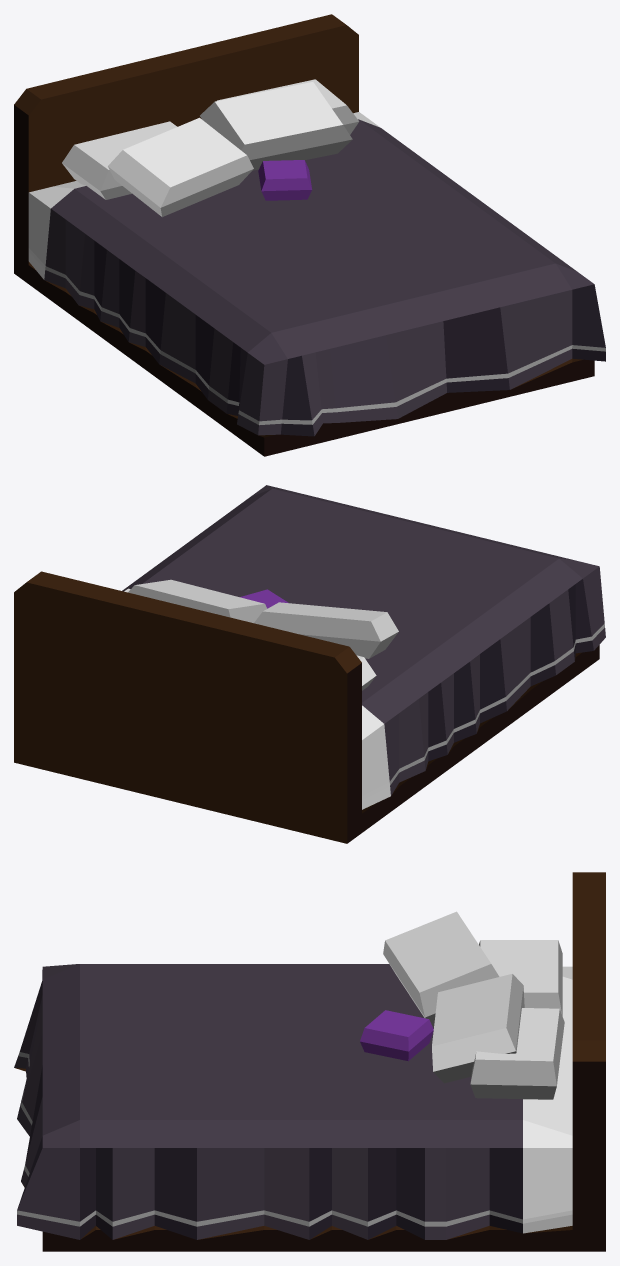
Rendered from Bed.fbx.
3 views of the same model, one above another, from view 1: azimuth 30°, elevation 25°; view 2: azimuth 150°, elevation 25°; view 3: azimuth 270°, elevation 25° (orthographic). The views are drawn at different scales.
Parts seen in each view (by area): view 1: Cube; view 2: Cube; view 3: Cube.
Part boxes in pixels (x1,y1,x2,y2): Cube: (14, 14, 605, 456); Cube: (14, 485, 605, 843); Cube: (14, 872, 605, 1251).
Size of the model in its own units: 815 by 395 by 1037.
